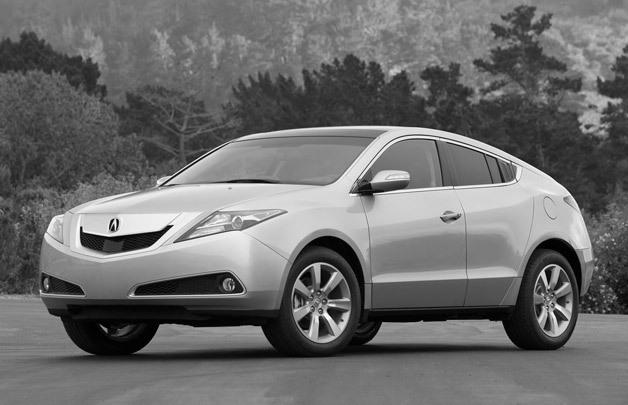car: (39, 127, 595, 360)
